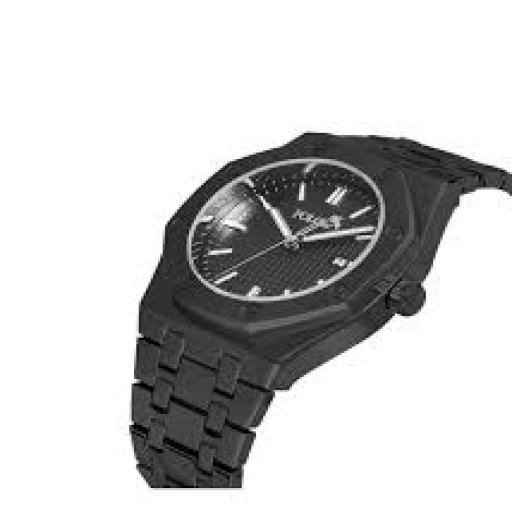KolSaati: (122, 126, 512, 502)
